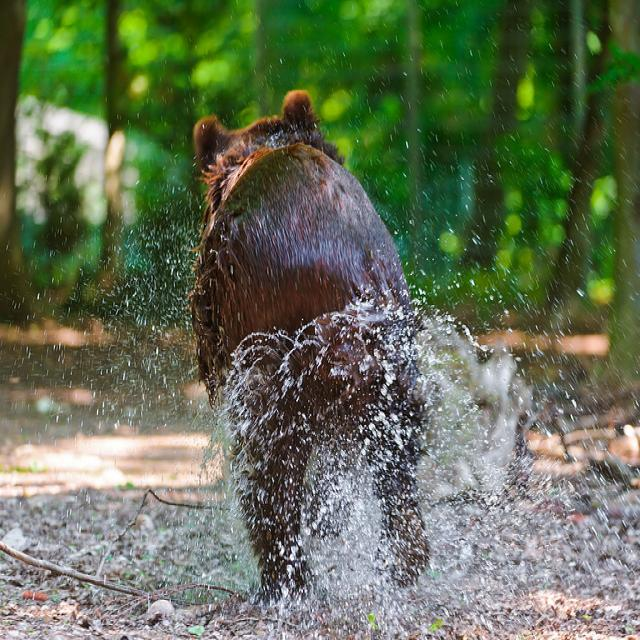Bear: (179, 85, 438, 616)
